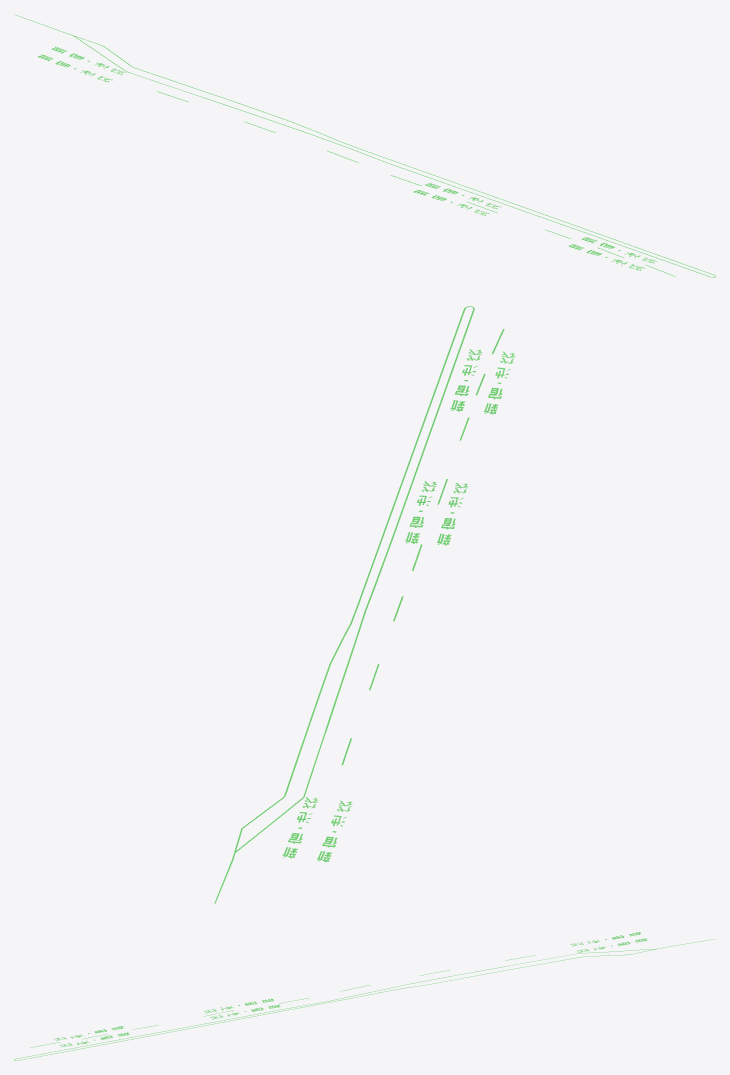
Rendered from data189.glb.
3 renders of one model, top to bottom at view 1: azimuth 30°, elevation 25°; view 2: azimuth 150°, elevation 25°; view 3: azimuth 270°, elevation 25°, orthographic. The views are drawn at different scales.
Size of the model in its own units: 51.65 by 2.55 by 129.
